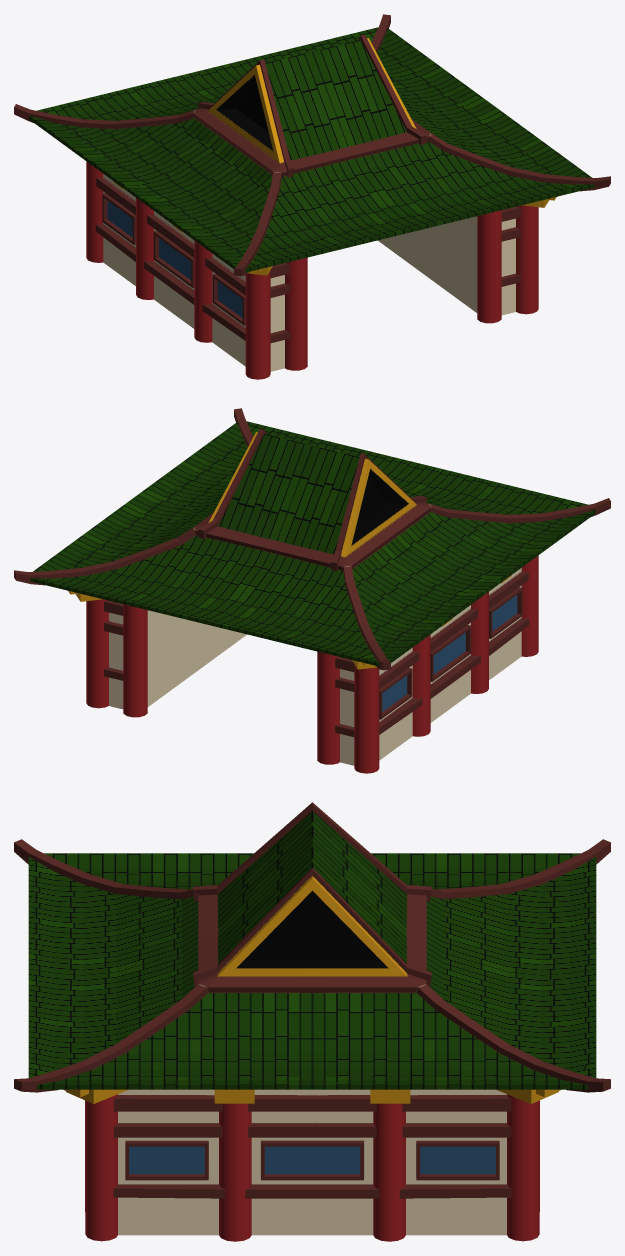
File: House.fbx
3 renders of one model, top to bottom at view 1: azimuth 30°, elevation 25°; view 2: azimuth 150°, elevation 25°; view 3: azimuth 270°, elevation 25°, orthographic. The views are drawn at different scales.
Visible parts, largest first — view 1: ToBake; view 2: ToBake; view 3: ToBake.
Part boxes in pixels (<box>): ToBake: <box>14,14,610,379</box>; ToBake: <box>14,408,610,773</box>; ToBake: <box>14,802,610,1241</box>.
Size of the model in its own units: 2334 by 1396 by 2421.
